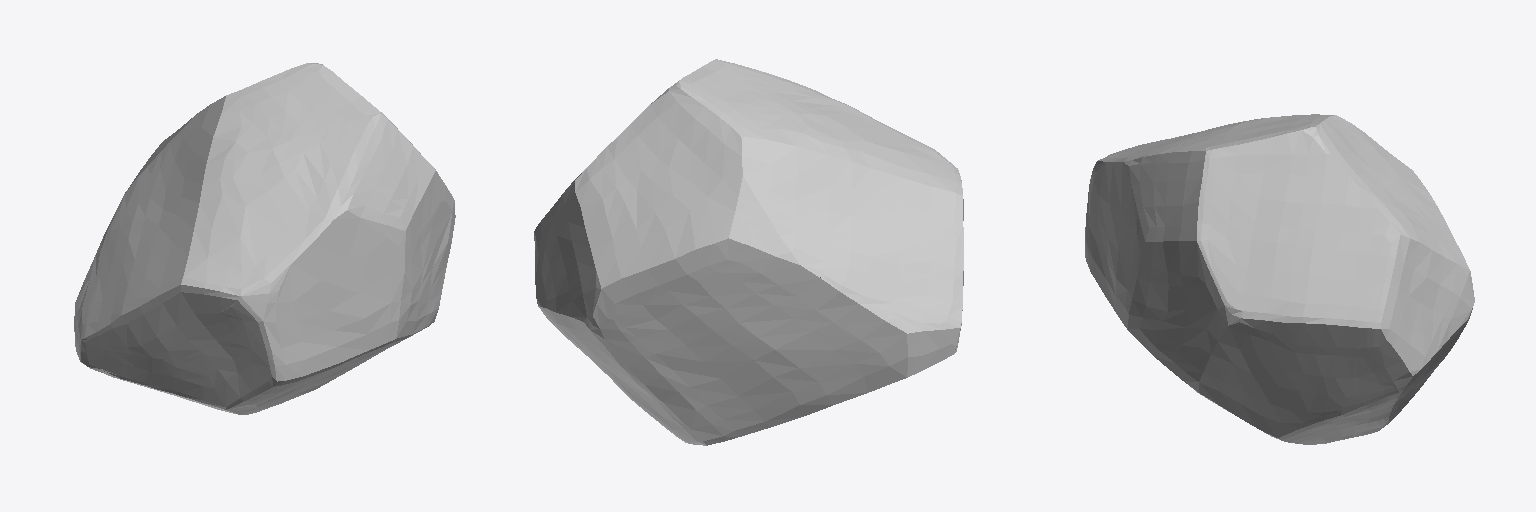
File: rock1.obj
3 renders of one model, left to right at view 1: azimuth 30°, elevation 25°; view 2: azimuth 150°, elevation 25°; view 3: azimuth 270°, elevation 25°, orthographic.
Visible parts, largest first — view 1: ST_Stone3; view 2: ST_Stone3; view 3: ST_Stone3.
Part boxes in pixels (x1,y1,x2,y2): ST_Stone3: (74, 63, 455, 414); ST_Stone3: (534, 59, 963, 445); ST_Stone3: (1085, 114, 1474, 444).
Bounding box in the file's own units: 1.42 × 1.21 × 1.31.